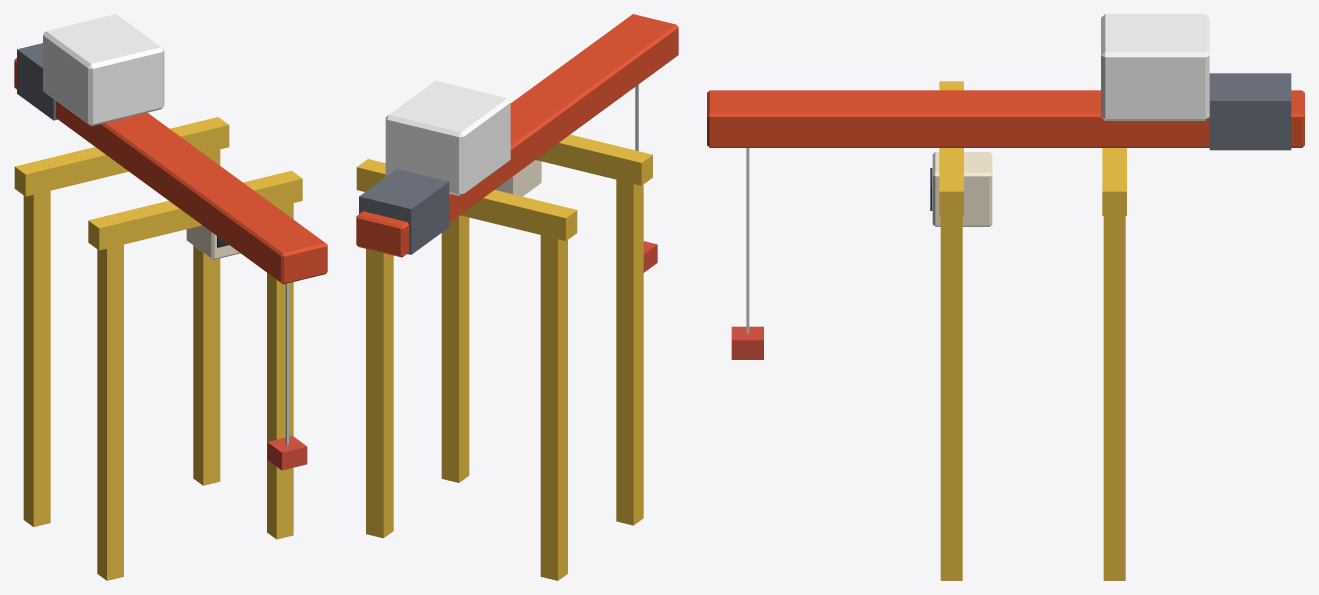
File: d_crane.fbx
3 views of the same model, side by side, from view 1: azimuth 30°, elevation 25°; view 2: azimuth 150°, elevation 25°; view 3: azimuth 270°, elevation 25° (orthographic). The views are drawn at different scales.
Visible parts, largest first — view 1: d_crane; view 2: d_crane; view 3: d_crane.
Part boxes in pixels (<box>): d_crane: <box>14,14,327,580</box>; d_crane: <box>356,14,678,580</box>; d_crane: <box>707,14,1304,580</box>.
Size of the model in its own units: 9.6 by 20.2 by 22.
